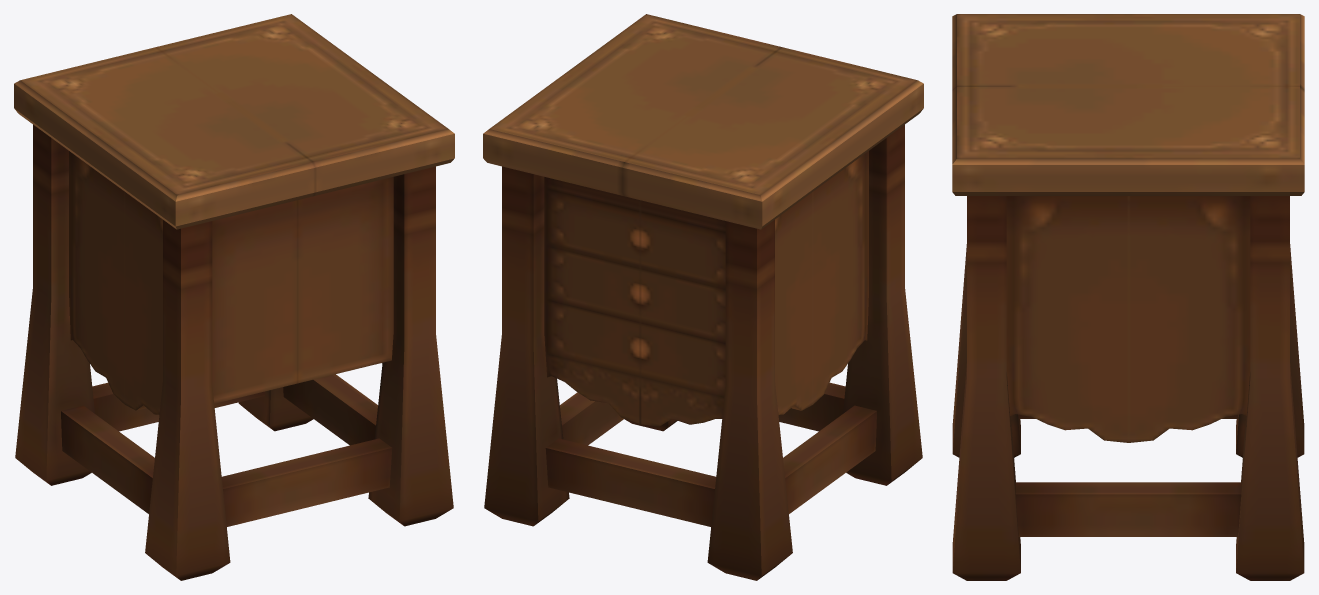
Rendered from Cabinet_03.gltf.
3 renders of one model, left to right at view 1: azimuth 30°, elevation 25°; view 2: azimuth 150°, elevation 25°; view 3: azimuth 270°, elevation 25°, orthographic. The views are drawn at different scales.
Visible parts, largest first — view 1: Cabinet_03; view 2: Cabinet_03; view 3: Cabinet_03.
Part boxes in pixels (box(x1,y1,x2,y2)): Cabinet_03: box(14, 14, 454, 580); Cabinet_03: box(483, 14, 923, 580); Cabinet_03: box(952, 14, 1304, 580).
Size of the model in its own units: 29.3 by 39.23 by 29.37.
Materials: 1 (1 with a texture image).
